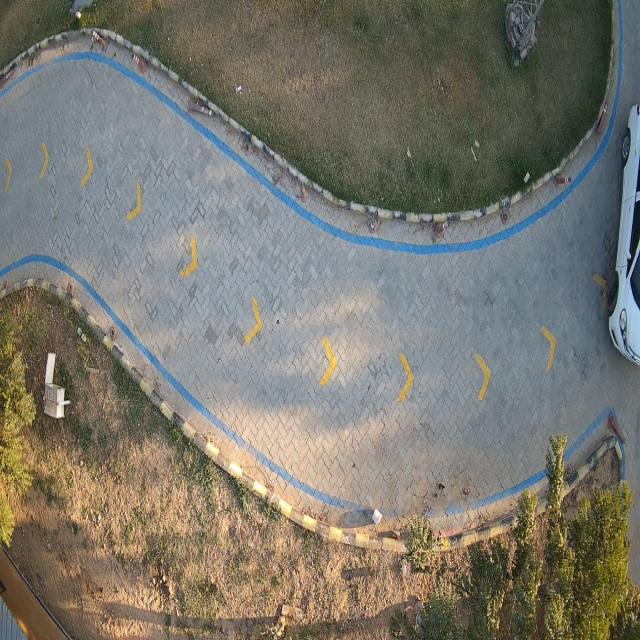car: (609, 104, 639, 364)
